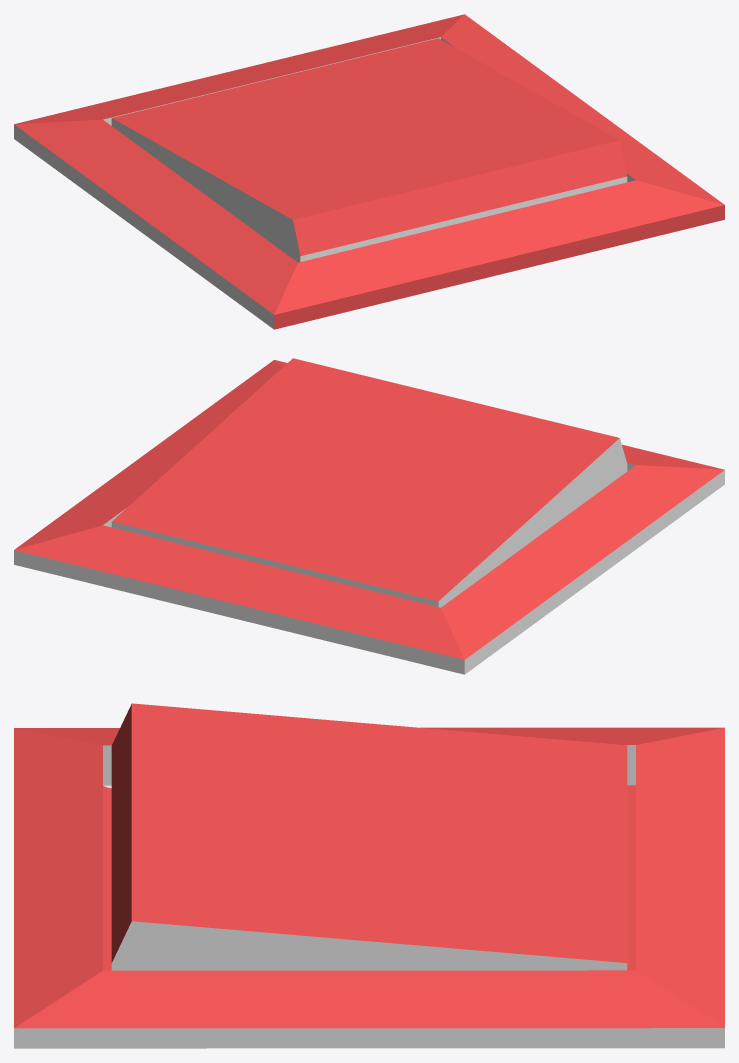
The model's file is lichtschalter.fbx.
The picture shows the model from 3 angles, top to bottom: view 1: azimuth 30°, elevation 25°; view 2: azimuth 150°, elevation 25°; view 3: azimuth 270°, elevation 25°; orthographic projection. The views are drawn at different scales.
Visible parts, largest first — view 1: Layer0, Color_000; view 2: Layer0, Color_000; view 3: Layer0, Color_000.
Part boxes in pixels (x1=…): Layer0: x1=14, y1=14, x2=724, y2=329; Color_000: x1=14, y1=37, x2=635, y2=329; Layer0: x1=14, y1=358, x2=724, y2=659; Color_000: x1=14, y1=438, x2=724, y2=674; Layer0: x1=14, y1=703, x2=724, y2=1028; Color_000: x1=14, y1=745, x2=724, y2=1048.
Size of the model in its own units: 8 by 1.07 by 8.
